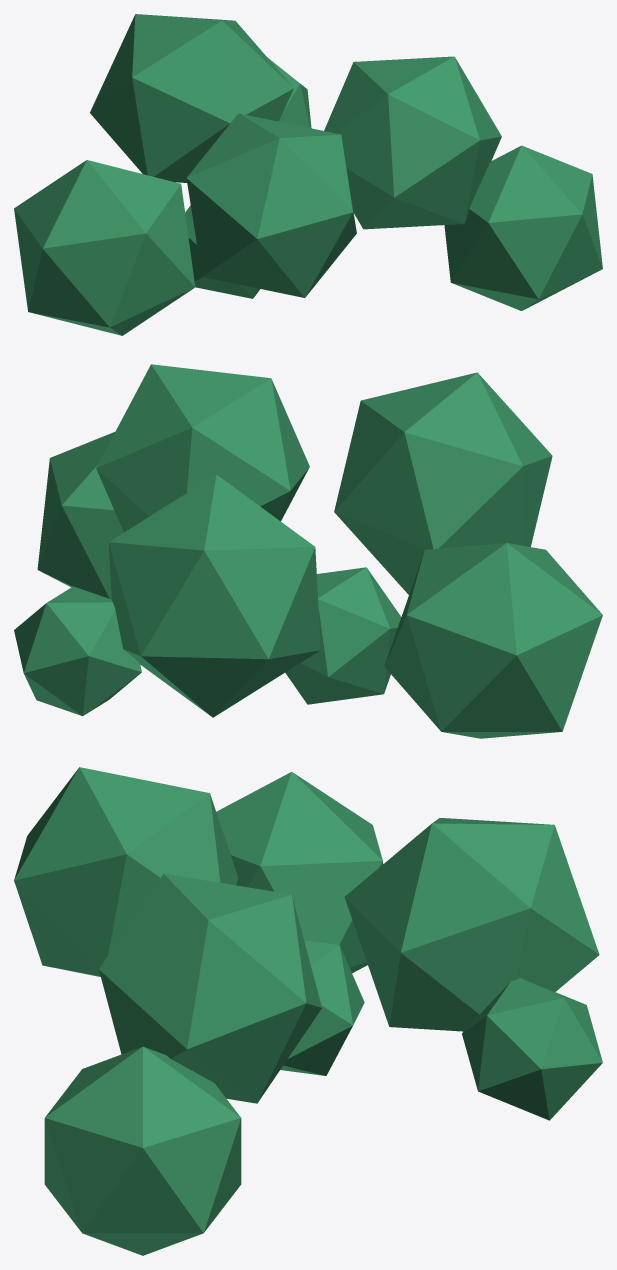
The model's file is tree.gltf.
3 renders of one model, top to bottom at view 1: azimuth 30°, elevation 25°; view 2: azimuth 150°, elevation 25°; view 3: azimuth 270°, elevation 25°, orthographic. The views are drawn at different scales.
Visible parts, largest first — view 1: Icosphere.007, Icosphere.001, Icosphere.005, Icosphere.003, Icosphere, Icosphere.006, Icosphere.002; view 2: Icosphere.003, Icosphere.007, Icosphere.001, Icosphere.005, Icosphere.002, Icosphere.006, Icosphere; view 3: Icosphere.003, Icosphere.005, Icosphere, Icosphere.001, Icosphere.007, Icosphere.002, Icosphere.006.
Boxes of the visible parts, x1=… form: Icosphere.007: x1=14, y1=160, x2=195, y2=335; Icosphere.001: x1=186, y1=113, x2=356, y2=297; Icosphere.005: x1=324, y1=56, x2=501, y2=229; Icosphere.003: x1=90, y1=14, x2=293, y2=182; Icosphere: x1=444, y1=145, x2=602, y2=310; Icosphere.006: x1=185, y1=205, x2=259, y2=298; Icosphere.002: x1=267, y1=57, x2=311, y2=128; Icosphere.003: x1=108, y1=474, x2=320, y2=717; Icosphere.007: x1=384, y1=543, x2=602, y2=738; Icosphere.001: x1=334, y1=372, x2=552, y2=594; Icosphere.005: x1=96, y1=364, x2=309, y2=532; Icosphere.002: x1=14, y1=586, x2=141, y2=716; Icosphere.006: x1=285, y1=567, x2=401, y2=704; Icosphere: x1=37, y1=432, x2=123, y2=599; Icosphere.003: x1=344, y1=818, x2=599, y2=1031; Icosphere.005: x1=99, y1=873, x2=321, y2=1103; Icosphere: x1=44, y1=1046, x2=241, y2=1255; Icosphere.001: x1=14, y1=767, x2=238, y2=976; Icosphere.007: x1=216, y1=772, x2=383, y2=973; Icosphere.002: x1=462, y1=977, x2=602, y2=1120; Icosphere.006: x1=280, y1=940, x2=364, y2=1075.
Bounding box in the file's own units: 3.66 × 1.76 × 2.9.
